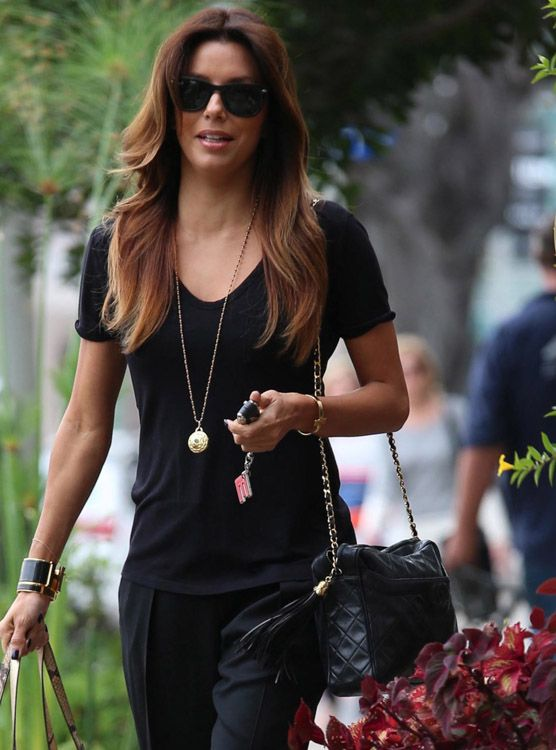channel: (287, 513, 491, 700), (341, 577, 403, 673), (315, 526, 352, 619)
